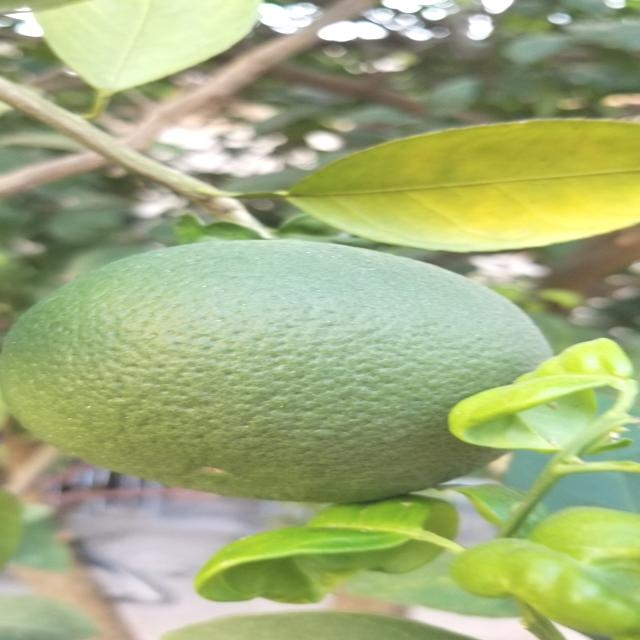agrume: (0, 227, 565, 521)
